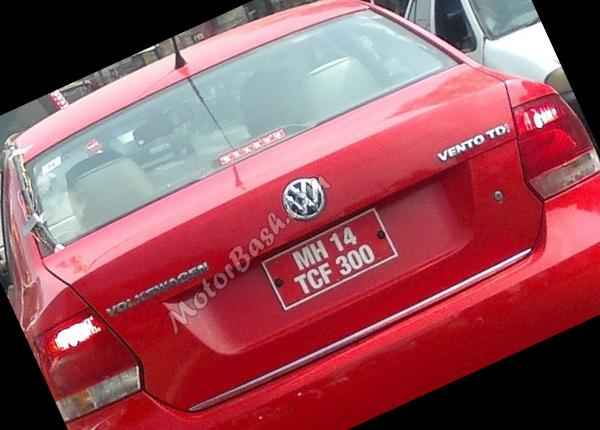plate: (255, 196, 406, 319)
